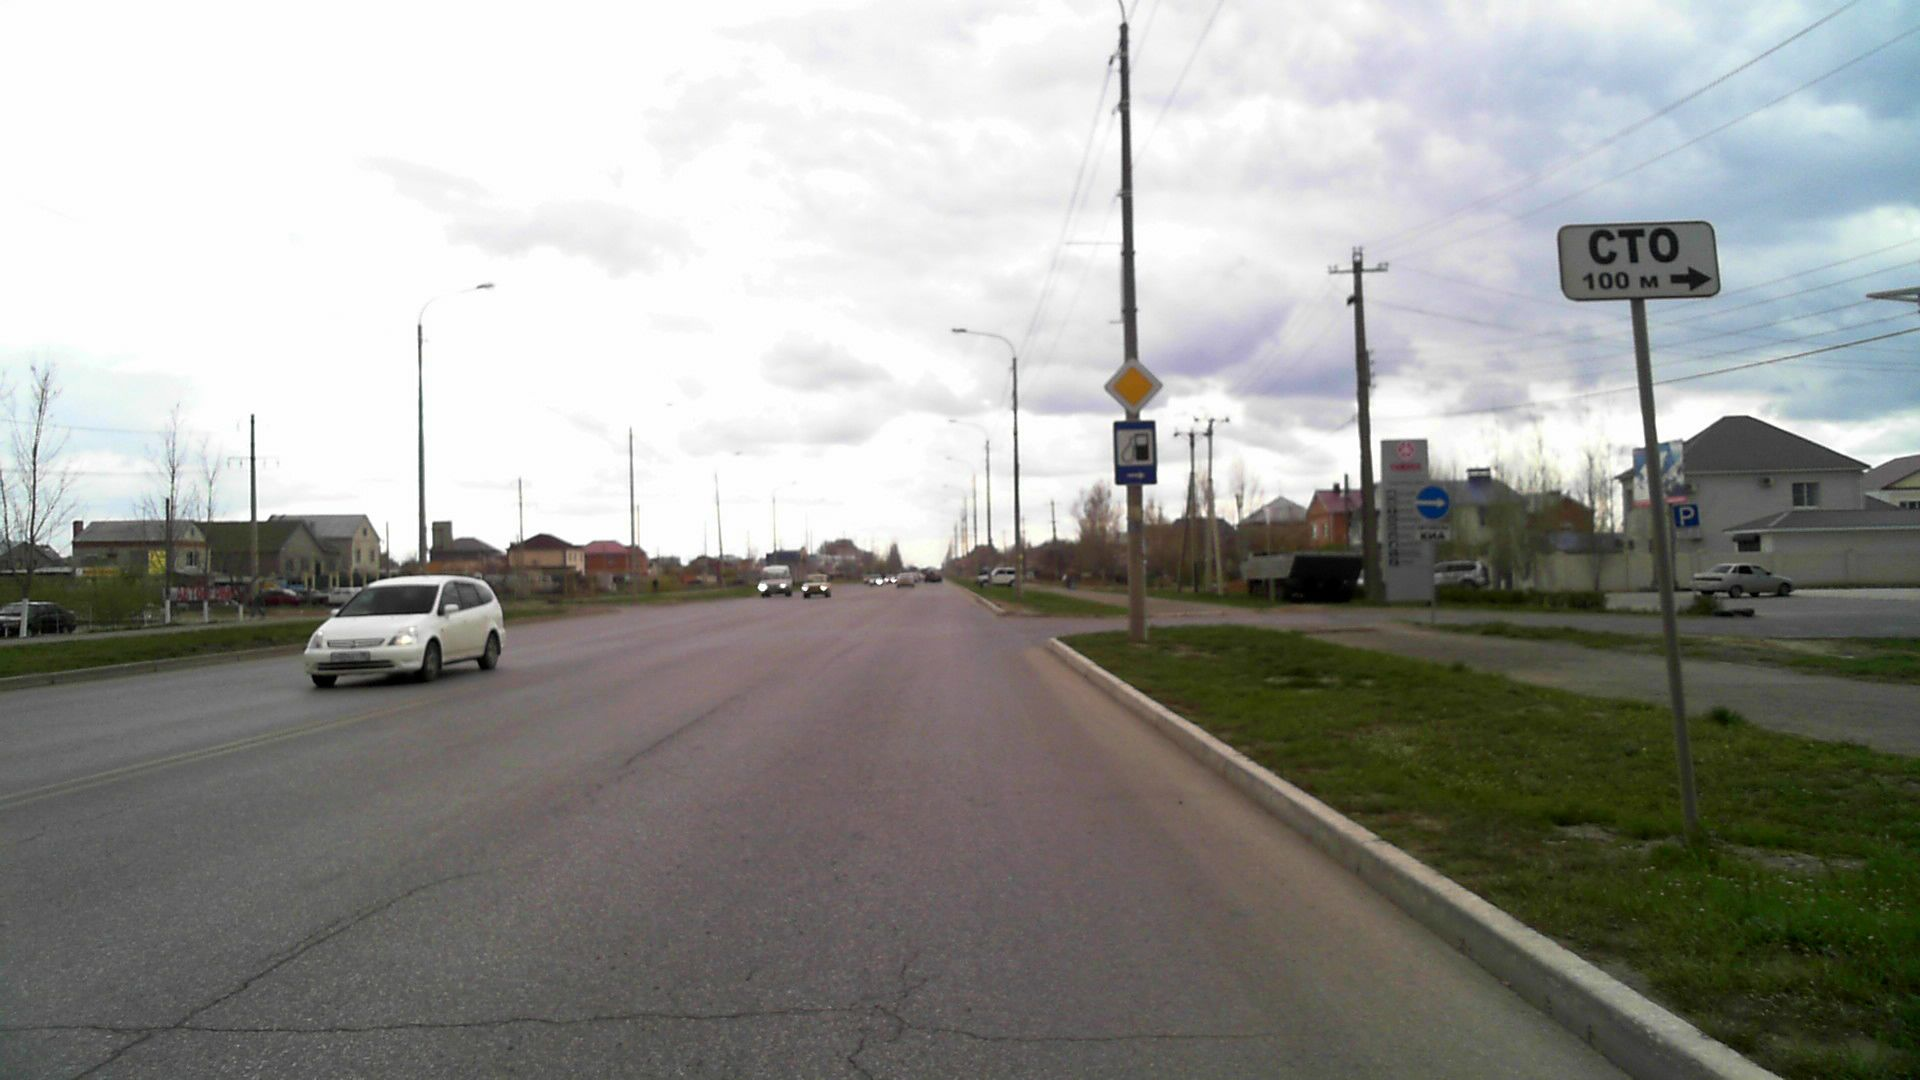Turn Right: (1415, 485, 1451, 521)
